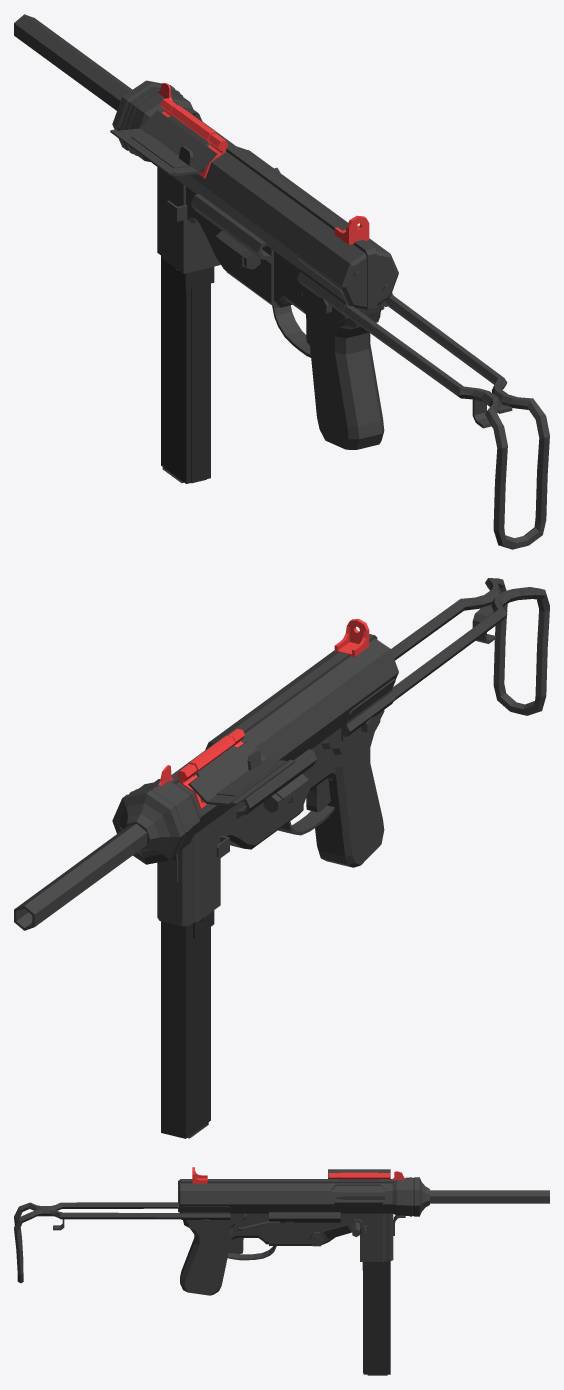
The model's file is subfusil_9.glb.
3 views of the same model, one above another, from view 1: azimuth 30°, elevation 25°; view 2: azimuth 150°, elevation 25°; view 3: azimuth 270°, elevation 25° (orthographic). The views are drawn at different scales.
Parts seen in each view (by area): view 1: p1_paint, p37_mag, p29_paint, p33_paint, p0_paint, p7_paint, p8_paint, p4_paint, p16_paint, p18_paint, p31_paint, p21_paint (+3 smaller); view 2: p1_paint, p37_mag, p33_paint, p29_paint, p7_paint, p0_paint, p8_paint, p16_paint, p4_paint, p31_paint, p18_paint, p12_paint (+3 smaller); view 3: p1_paint, p37_mag, p29_paint, p33_paint, p0_paint, p7_paint, p16_paint, p10_paint, p4_paint, p32_paint, p19_paint, p21_paint (+3 smaller).
Boxes of the visible parts, x1=… form: p1_paint: x1=112, y1=80, x2=398, y2=309; p37_mag: x1=161, y1=255, x2=214, y2=483; p29_paint: x1=293, y1=265, x2=384, y2=449; p33_paint: x1=319, y1=294, x2=549, y2=549; p0_paint: x1=14, y1=14, x2=132, y2=110; p7_paint: x1=157, y1=167, x2=220, y2=273; p8_paint: x1=110, y1=110, x2=217, y2=176; p4_paint: x1=172, y1=100, x2=377, y2=309; p16_paint: x1=186, y1=186, x2=278, y2=307; p18_paint: x1=191, y1=193, x2=271, y2=263; p31_paint: x1=297, y1=258, x2=348, y2=323; p21_paint: x1=274, y1=251, x2=306, y2=314; p1_paint: x1=112, y1=638, x2=398, y2=864; p37_mag: x1=161, y1=910, x2=214, y2=1138; p33_paint: x1=368, y1=578, x2=549, y2=720; p29_paint: x1=315, y1=720, x2=384, y2=867; p7_paint: x1=157, y1=816, x2=220, y2=926; p0_paint: x1=14, y1=823, x2=146, y2=930; p8_paint: x1=188, y1=740, x2=295, y2=806; p16_paint: x1=220, y1=773, x2=303, y2=849; p4_paint: x1=171, y1=634, x2=377, y2=783; p31_paint: x1=341, y1=679, x2=395, y2=743; p18_paint: x1=236, y1=749, x2=316, y2=818; p12_paint: x1=216, y1=750, x2=277, y2=796; p1_paint: x1=179, y1=1177, x2=429, y2=1216; p37_mag: x1=362, y1=1261, x2=390, y2=1375; p29_paint: x1=180, y1=1213, x2=247, y2=1295; p33_paint: x1=14, y1=1202, x2=208, y2=1283; p0_paint: x1=430, y1=1190, x2=549, y2=1203; p7_paint: x1=360, y1=1213, x2=393, y2=1261; p16_paint: x1=269, y1=1213, x2=359, y2=1245; p10_paint: x1=331, y1=1185, x2=384, y2=1205; p4_paint: x1=178, y1=1179, x2=395, y2=1212; p32_paint: x1=182, y1=1206, x2=230, y2=1228; p19_paint: x1=269, y1=1212, x2=340, y2=1222; p21_paint: x1=231, y1=1213, x2=268, y2=1244.
Size of the model in its own units: 0.1175 by 0.3185 by 0.757.
